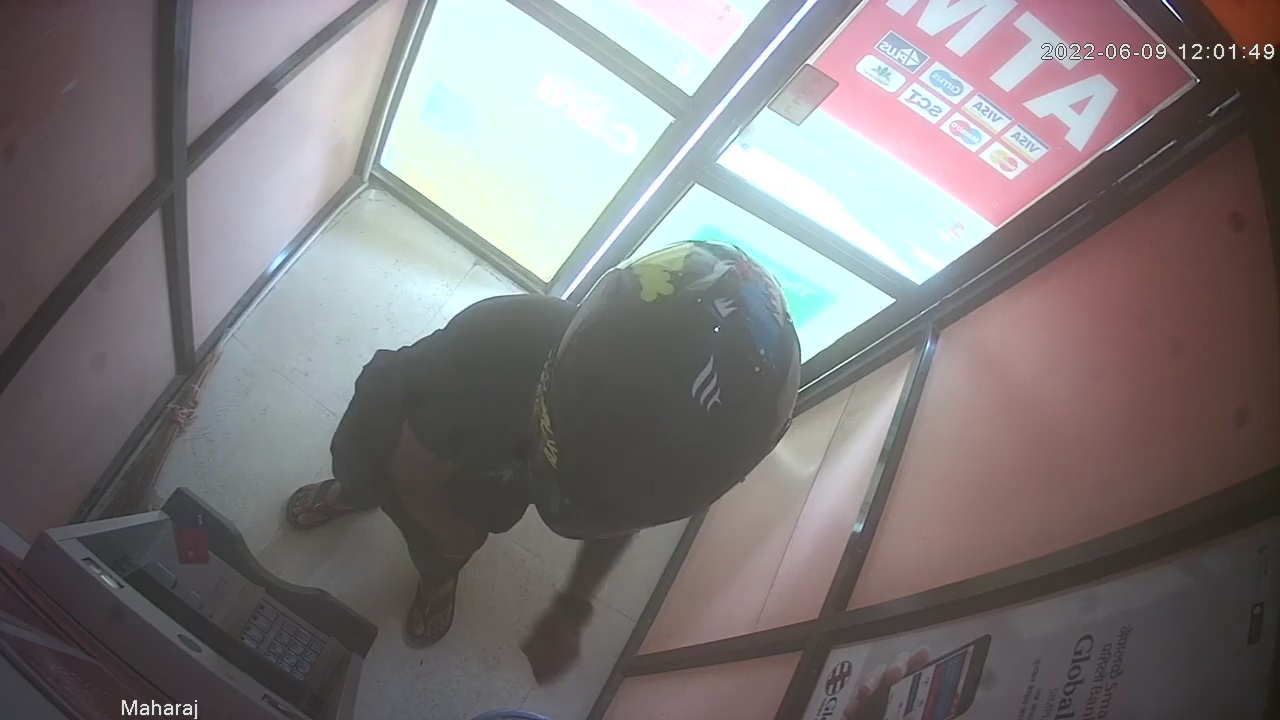helmet: (525, 237, 799, 542)
person: (286, 238, 803, 688)
